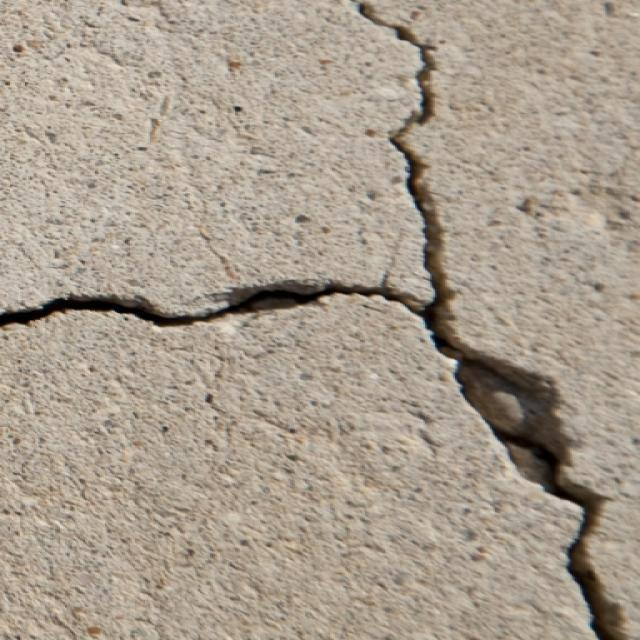Radial: (0, 0, 625, 636)
